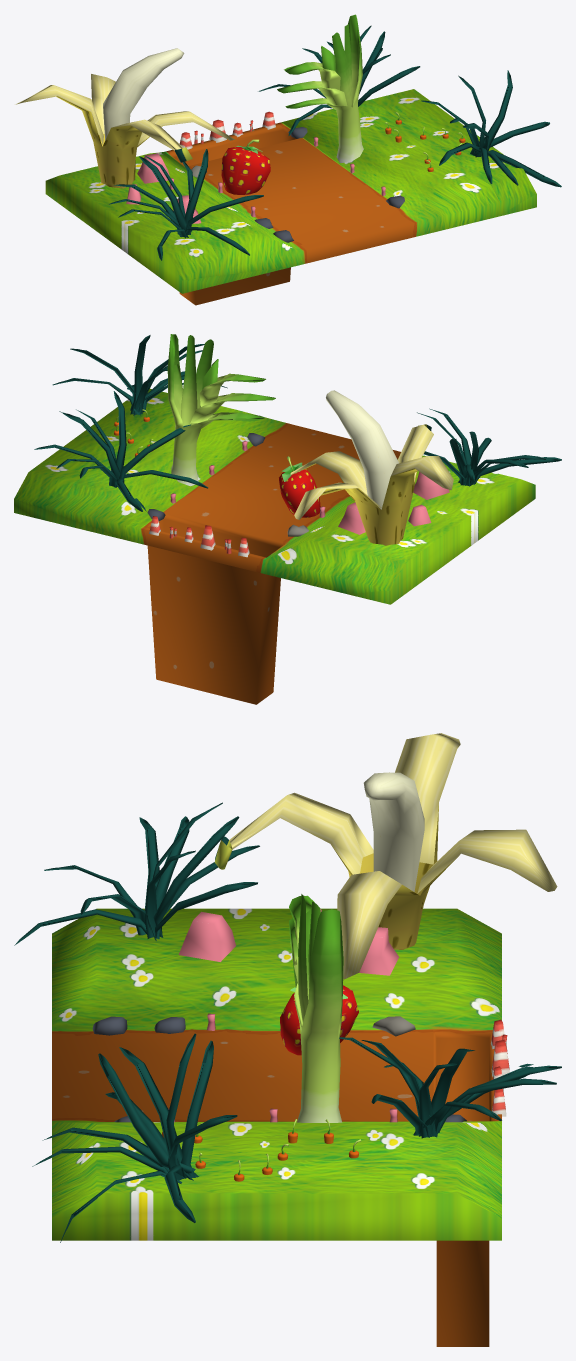
File: D_block_05.FBX
The picture shows the model from 3 angles, top to bottom: view 1: azimuth 30°, elevation 25°; view 2: azimuth 150°, elevation 25°; view 3: azimuth 270°, elevation 25°; orthographic projection. The views are drawn at different scales.
Visible parts, largest first — view 1: sol; view 2: sol; view 3: sol.
Boxes of the visible parts, x1,y1,x2,y2 form: sol: (15, 14, 561, 305); sol: (14, 334, 561, 704); sol: (14, 733, 561, 1346).
Bounding box in the file's own units: 1157 × 686 × 730.
